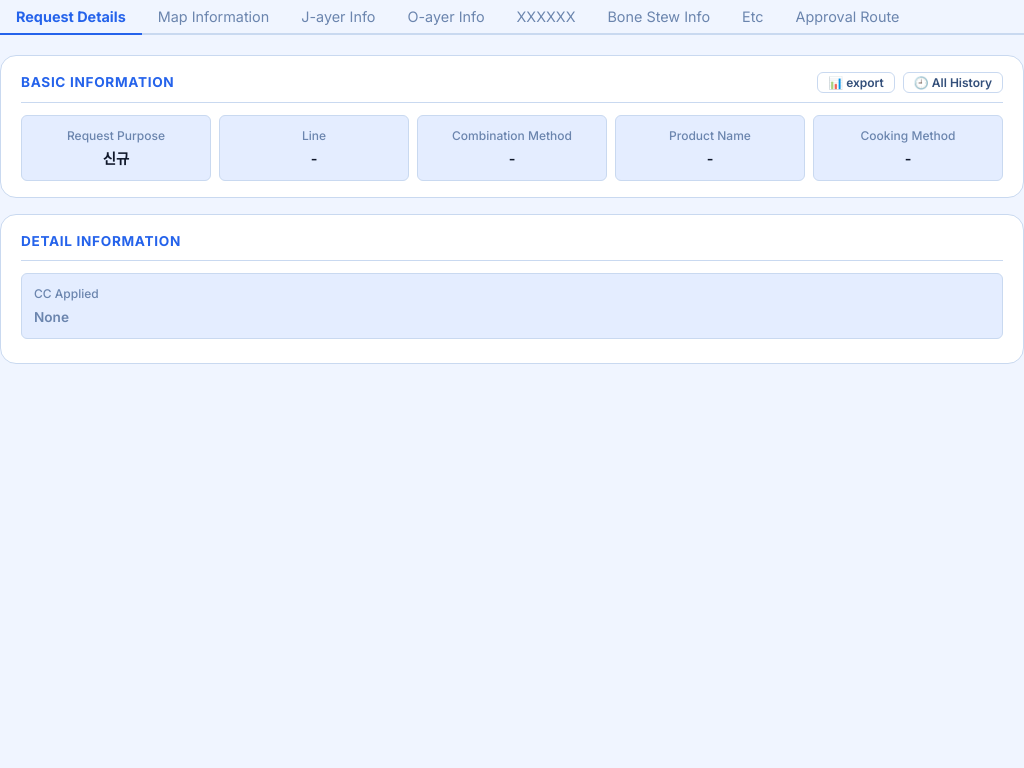
Scenario: 결재 경로 탭 — SA 행 미지정 사유 › 그 회차에 SA 단계가 실제로 있으면 사유 대신 단계 정보를 보여준다
The image size is (1024, 768).
Click the button "Approval Route" at {"x": 847, "y": 18}, box [780,0,915,35]
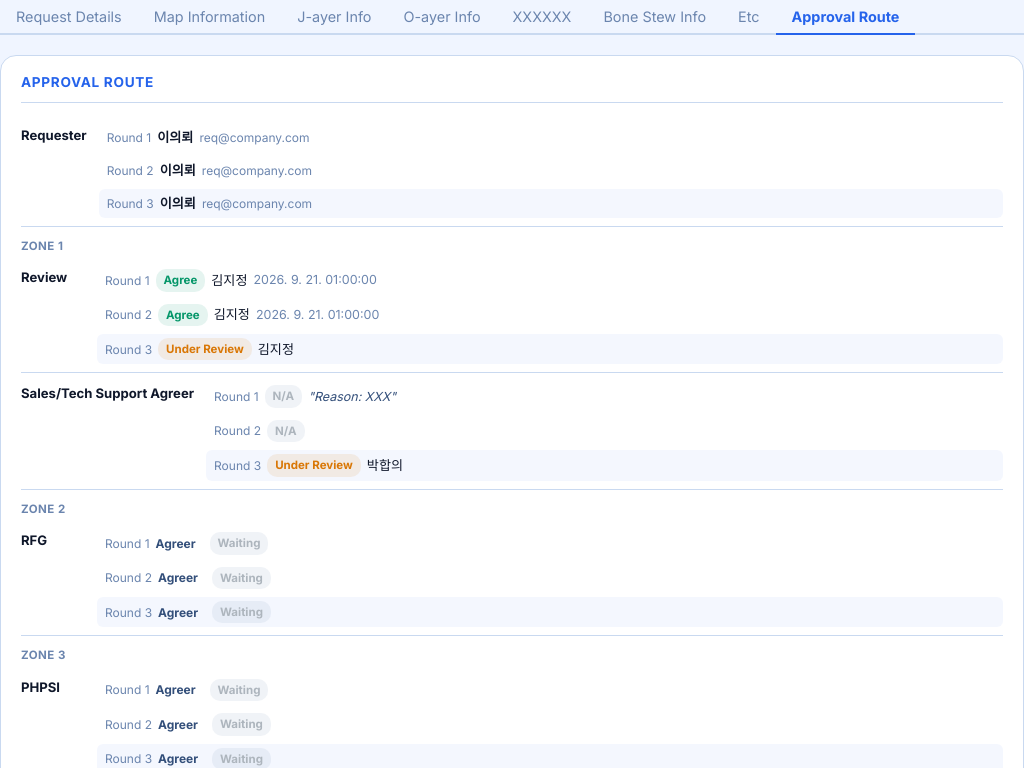
Check: the text "박합의" is shown, box [367,455,403,476]
